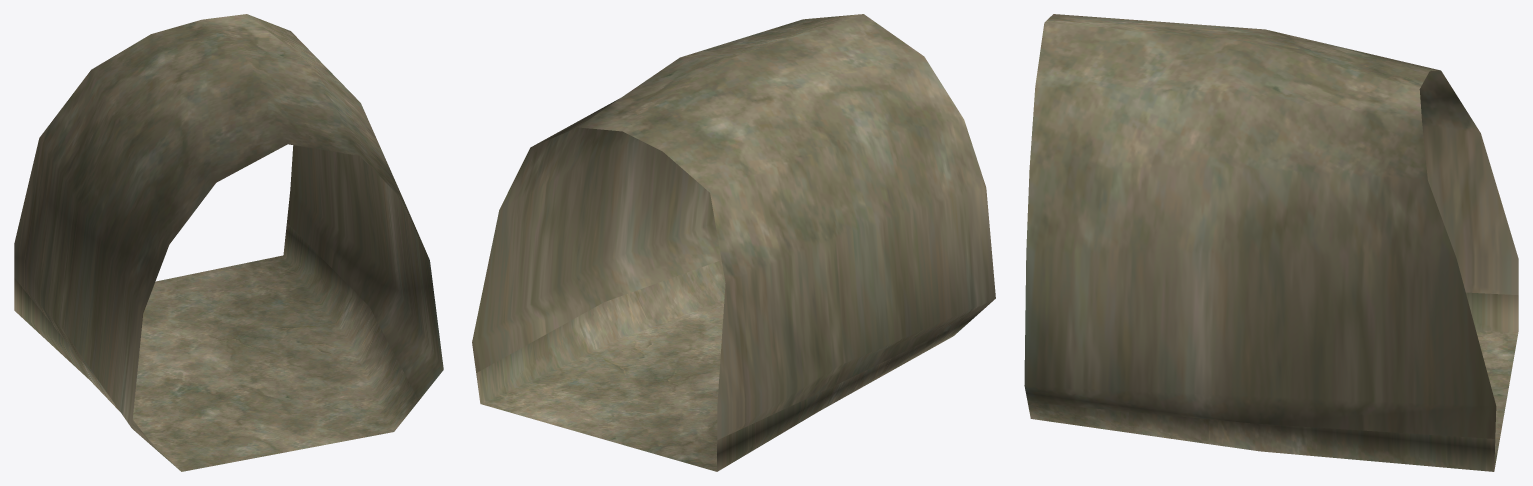
The model's file is OVERHILL_A_01_OBJECT49.fbx.
The picture shows the model from 3 angles, left to right: view 1: azimuth 30°, elevation 25°; view 2: azimuth 150°, elevation 25°; view 3: azimuth 270°, elevation 25°; orthographic projection. The views are drawn at different scales.
Visible parts, largest first — view 1: OVERHILL_A_01_OBJECT49; view 2: OVERHILL_A_01_OBJECT49; view 3: OVERHILL_A_01_OBJECT49.
Part boxes in pixels (x1,y1,x2,y2): OVERHILL_A_01_OBJECT49: (14, 14, 443, 471); OVERHILL_A_01_OBJECT49: (472, 14, 995, 471); OVERHILL_A_01_OBJECT49: (1024, 14, 1518, 471).
Size of the model in its own units: 27442 by 23343 by 29941.
1 material, 1 textured.
